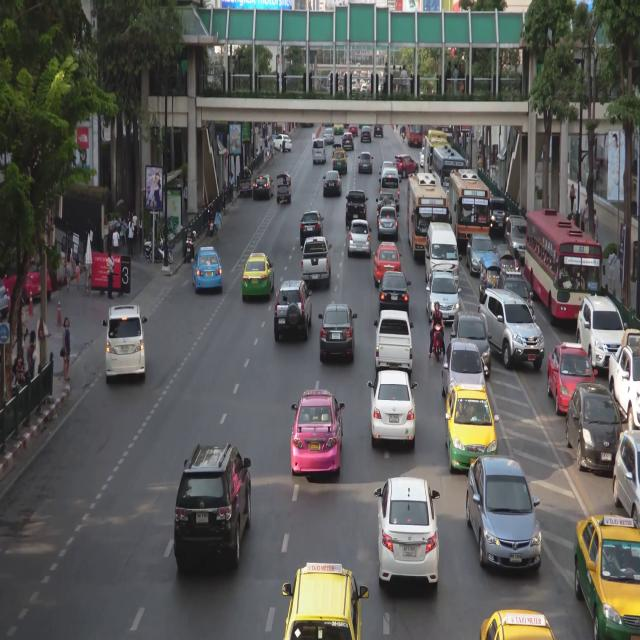bus: (526, 206, 600, 329), (409, 173, 450, 262), (451, 171, 490, 249), (432, 147, 468, 213), (425, 134, 451, 188), (408, 124, 422, 147)
car: (178, 444, 249, 561), (468, 461, 541, 572), (377, 478, 439, 597), (482, 289, 544, 368), (568, 381, 618, 470), (578, 296, 627, 372), (371, 371, 416, 446), (609, 342, 640, 431), (108, 307, 146, 378), (443, 344, 486, 406), (451, 313, 490, 378), (376, 310, 412, 377), (1, 259, 52, 305), (617, 427, 640, 527), (497, 267, 532, 325), (276, 283, 312, 338), (321, 305, 354, 362), (428, 224, 458, 283), (427, 274, 459, 321), (379, 271, 409, 316), (303, 241, 331, 289), (467, 236, 496, 271), (506, 216, 527, 261), (381, 168, 400, 210), (480, 256, 498, 299), (379, 204, 398, 242), (349, 220, 371, 252), (347, 189, 367, 223), (302, 210, 324, 239), (490, 201, 508, 233), (378, 193, 396, 224), (394, 154, 419, 176), (495, 246, 516, 270), (324, 169, 342, 195), (277, 173, 292, 204), (255, 175, 273, 198), (0, 280, 9, 317), (359, 153, 374, 174), (312, 137, 325, 161), (274, 133, 291, 151), (240, 171, 252, 195), (342, 134, 354, 150), (360, 126, 371, 143), (382, 163, 393, 179), (348, 122, 358, 135), (374, 124, 383, 138), (324, 128, 333, 142)
pedestrian: (62, 317, 71, 382), (107, 251, 114, 301), (27, 331, 35, 374), (609, 250, 616, 292), (21, 306, 28, 344), (127, 214, 133, 257), (66, 249, 72, 291), (75, 256, 81, 289), (215, 210, 221, 243), (112, 227, 119, 253), (583, 197, 588, 232), (133, 211, 138, 244), (222, 181, 227, 209), (570, 185, 575, 212), (594, 210, 598, 241), (230, 173, 234, 200), (272, 143, 276, 165), (267, 137, 271, 156), (283, 137, 286, 155), (265, 139, 268, 156), (571, 214, 575, 224), (256, 148, 259, 156)
taxi: (575, 515, 640, 639), (289, 562, 361, 640), (446, 383, 496, 477), (294, 389, 343, 473), (549, 344, 596, 413), (481, 608, 554, 640), (242, 255, 275, 300), (194, 250, 222, 289), (375, 242, 400, 284), (334, 150, 347, 173), (335, 125, 345, 135)
